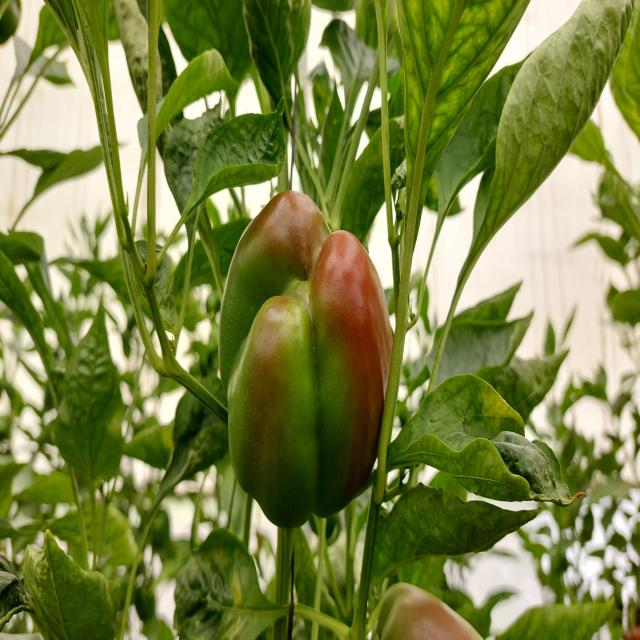BrownishRed--Can-be-Harvested: (222, 192, 398, 526)
